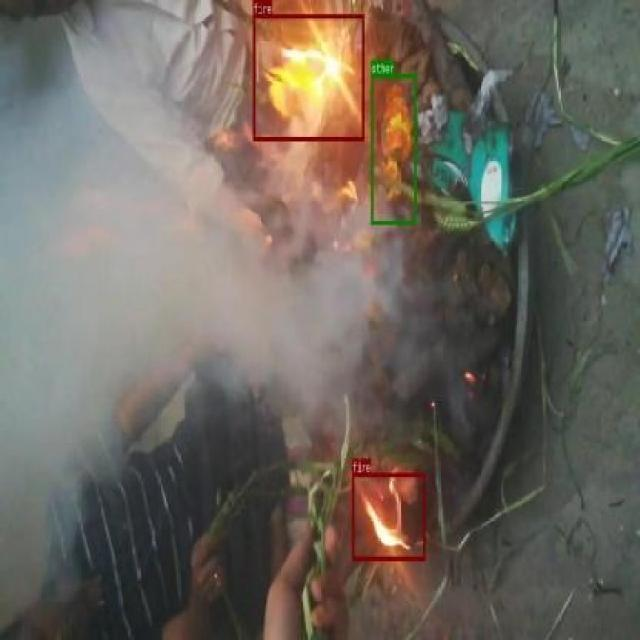fire: (253, 14, 364, 140), (352, 472, 426, 560)
